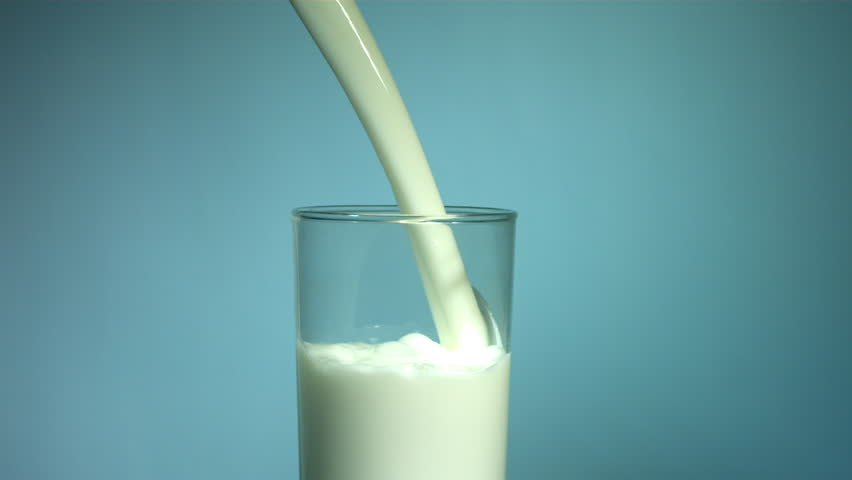glass of milk: (289, 173, 531, 480)
